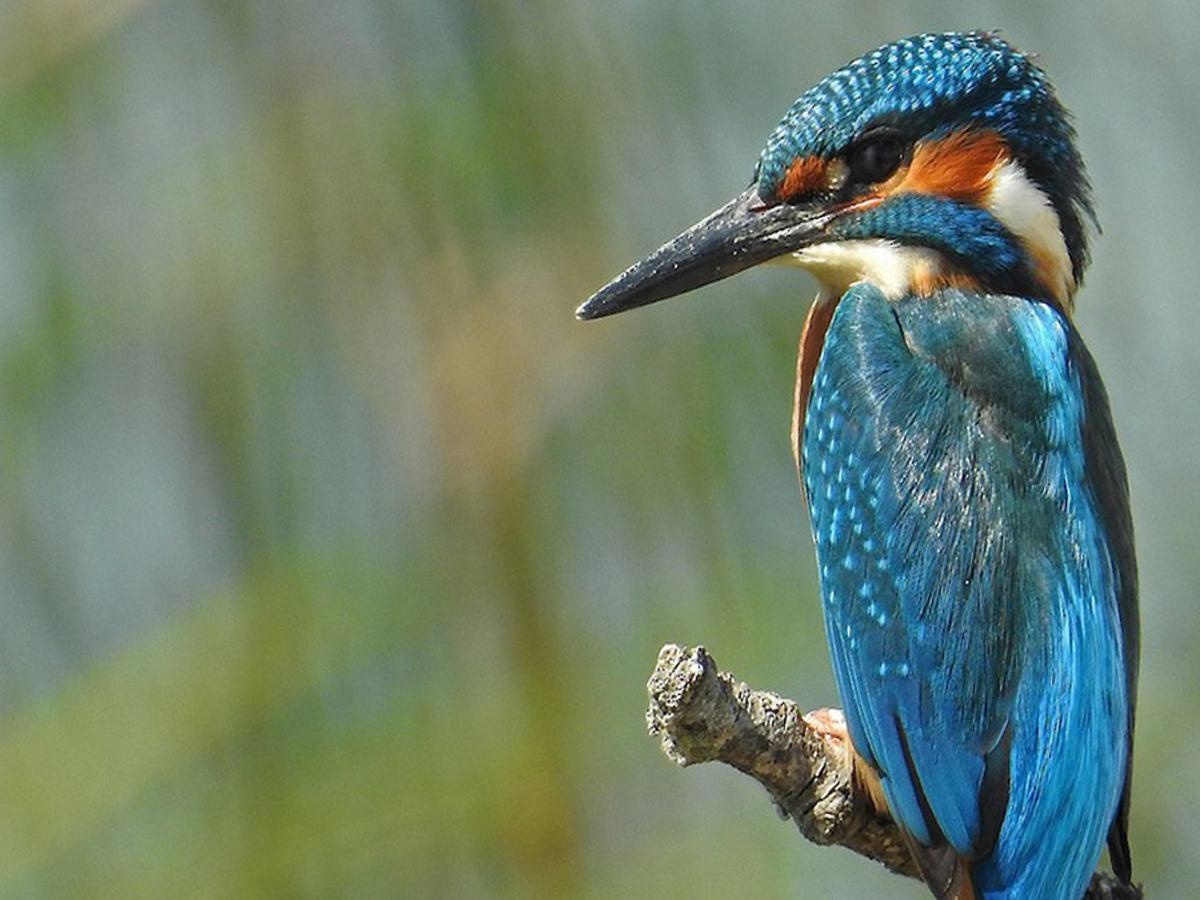kingfisher: (577, 31, 1162, 855)
